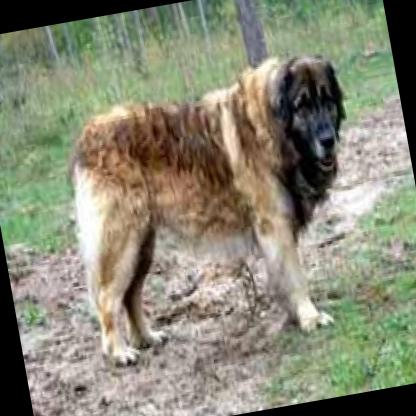Leonberg: (50, 45, 380, 371)
